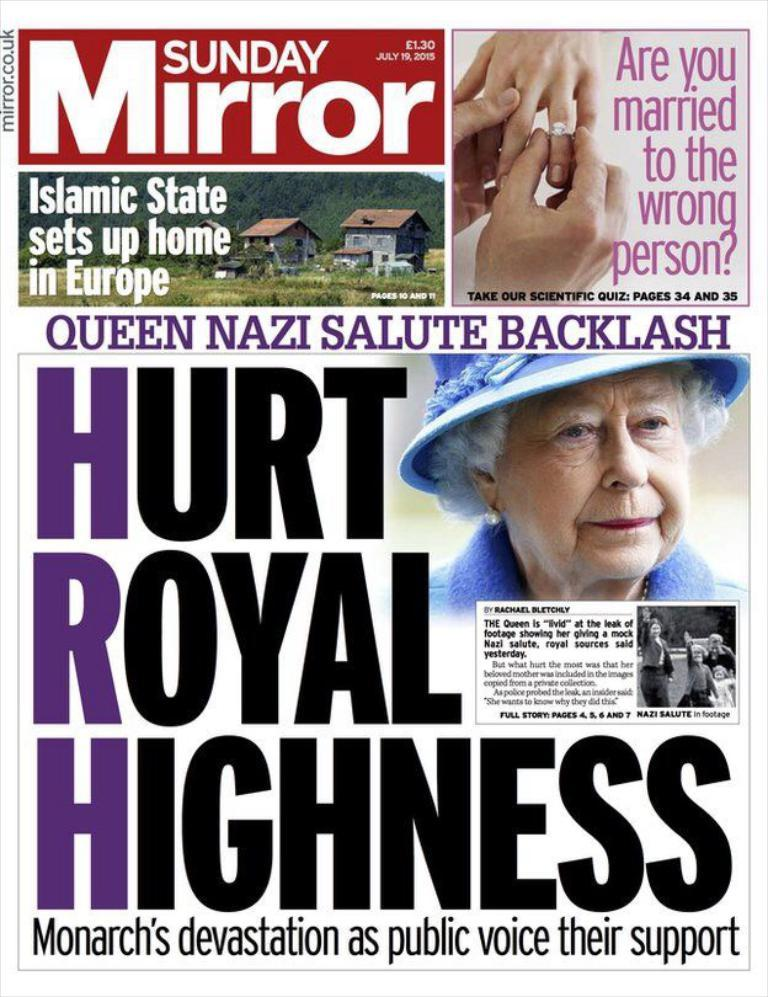Hat: (395, 349, 749, 492)
